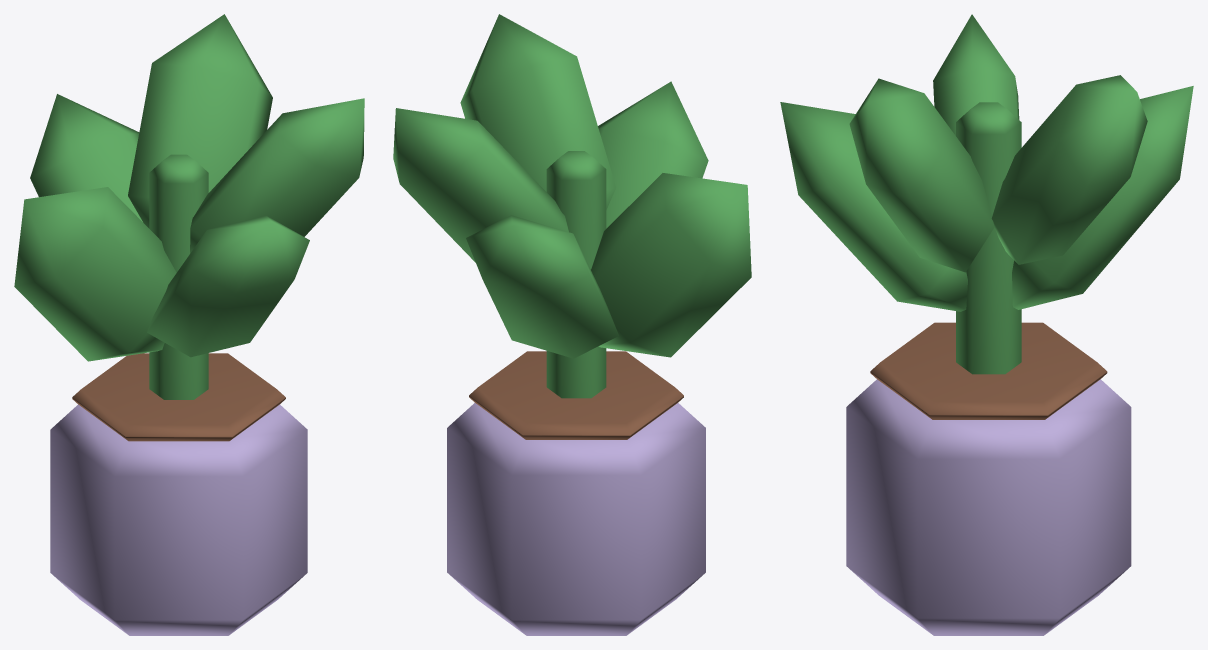
Rendered from plant-large.glb.
3 views of the same model, side by side, from view 1: azimuth 30°, elevation 25°; view 2: azimuth 150°, elevation 25°; view 3: azimuth 270°, elevation 25° (orthographic). The views are drawn at different scales.
Visible parts, largest first — view 1: part (×8); view 2: part (×8); view 3: part (×8).
Boxes of the visible parts, left/top/right/bottom form: part (×8): left=14, top=14, right=364, bottom=635; part (×8): left=393, top=14, right=751, bottom=635; part (×8): left=780, top=14, right=1193, bottom=635.
Size of the model in its own units: 1.12 by 1.71 by 1.13.
Materials: 1 (1 with a texture image).
